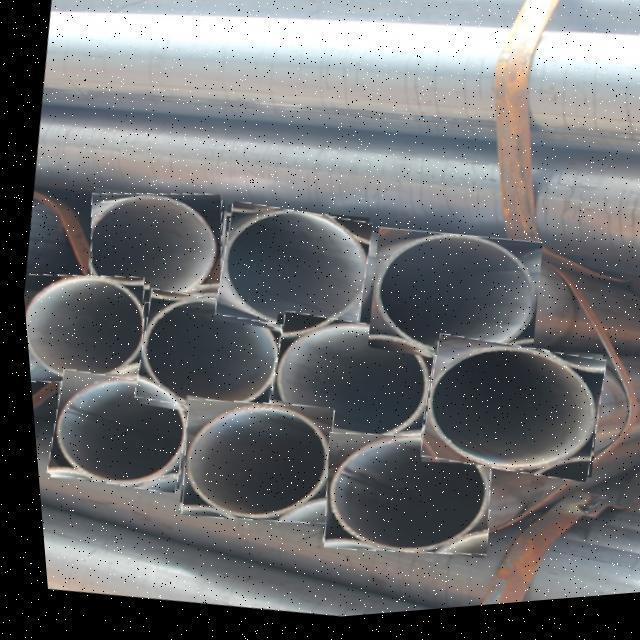pipe: (411, 341, 599, 491), (259, 315, 430, 457), (361, 233, 537, 369), (209, 204, 367, 342), (315, 437, 483, 561), (172, 401, 326, 528), (127, 291, 277, 421), (39, 369, 184, 495), (85, 195, 217, 307), (19, 274, 137, 385)
